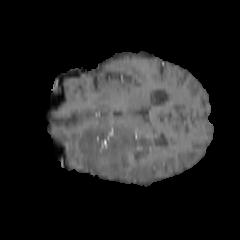glioma: (77, 125, 156, 174)
